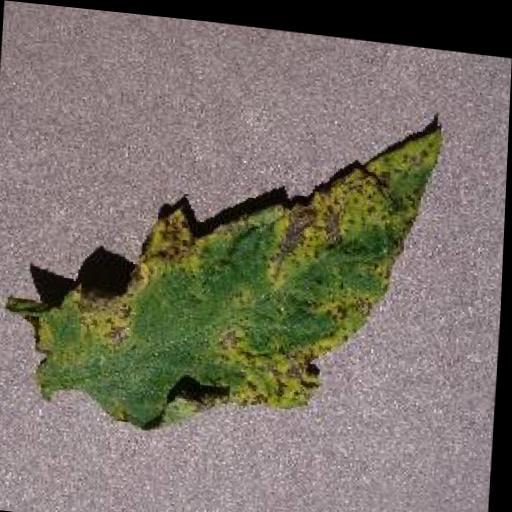Septoria: (7, 70, 449, 450)
